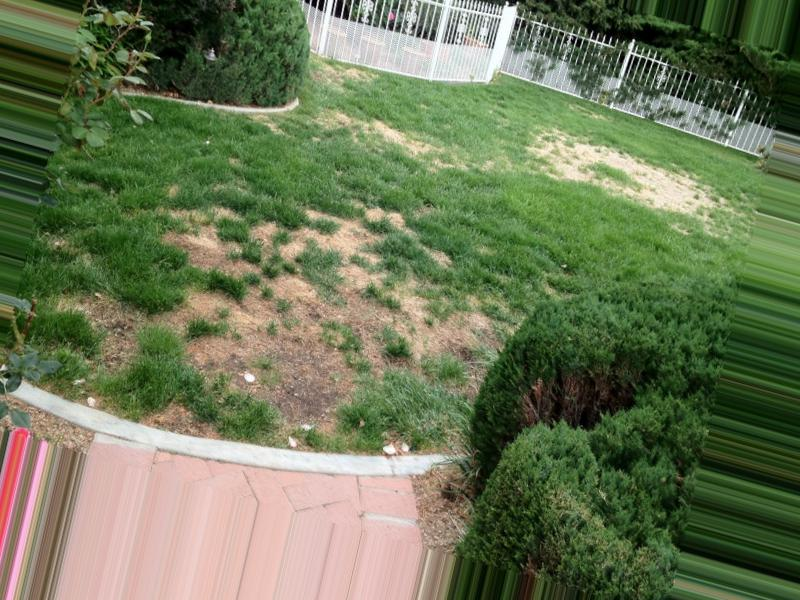patch: (210, 306, 335, 401), (266, 226, 373, 299), (644, 178, 685, 208), (551, 141, 583, 173)
